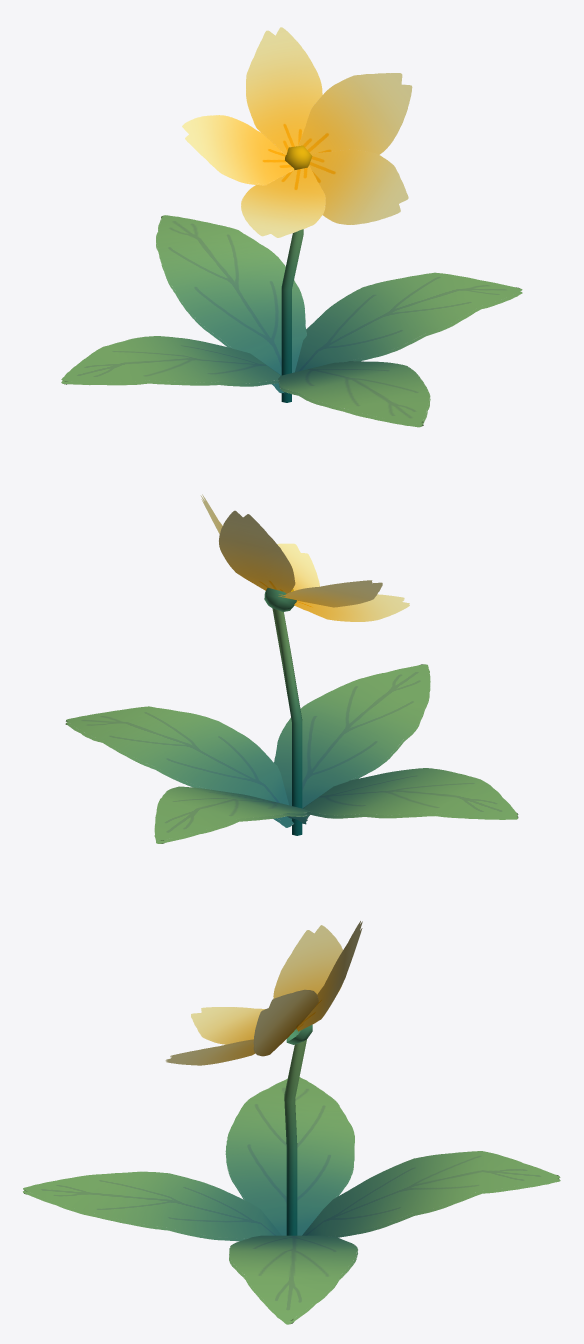
Rendered from hana_yellow.fbx.
3 renders of one model, top to bottom at view 1: azimuth 30°, elevation 25°; view 2: azimuth 150°, elevation 25°; view 3: azimuth 270°, elevation 25°, orthographic. The views are drawn at different scales.
Visible parts, largest first — view 1: pPlane46, pPlane39, pPlane47, pPlane48, pPlane42, pPlane41, pPlane43, pPlane45, pPlane44, pCylinder18; view 2: pPlane48, pPlane39, pPlane47, pPlane46, pPlane41, pCylinder18, pPlane45, pPlane44, pPlane43, pSphere2; view 3: pPlane47, pPlane48, pPlane46, pPlane39, pPlane45, pPlane42, pCylinder18, pPlane44, pPlane41, pPlane43.
Part boxes in pixels (<box>): pPlane46: <box>156,215,306,393</box>; pPlane39: <box>295,272,522,372</box>; pPlane47: <box>61,336,280,386</box>; pPlane48: <box>278,361,430,427</box>; pPlane42: <box>298,73,412,154</box>; pPlane41: <box>246,27,322,155</box>; pPlane43: <box>309,149,408,224</box>; pPlane45: <box>182,115,294,185</box>; pPlane44: <box>241,166,325,237</box>; pCylinder18: <box>281,229,303,402</box>; pPlane48: <box>274,664,430,808</box>; pPlane39: <box>65,706,293,827</box>; pPlane47: <box>290,768,518,819</box>; pPlane46: <box>154,786,309,843</box>; pPlane41: <box>219,510,295,593</box>; pCylinder18: <box>272,608,302,835</box>; pPlane45: <box>278,580,382,607</box>; pPlane44: <box>294,594,409,621</box>; pPlane43: <box>277,543,319,610</box>; pSphere2: <box>264,588,296,611</box>; pPlane47: <box>225,1077,354,1235</box>; pPlane48: <box>23,1171,281,1241</box>; pPlane46: <box>302,1151,560,1237</box>; pPlane39: <box>229,1235,357,1324</box>; pPlane45: <box>273,925,342,998</box>; pPlane42: <box>253,989,318,1056</box>; pCylinder18: <box>284,1035,306,1235</box>; pPlane44: <box>191,1007,265,1044</box>; pPlane41: <box>296,921,362,1031</box>; pPlane43: <box>165,1039,255,1065</box>.
Size of the model in its own units: 3.19 by 2.27 by 3.19.
